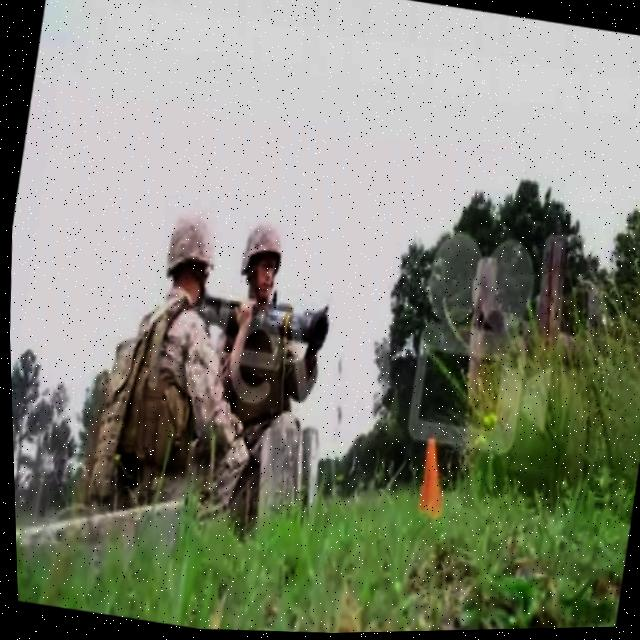rocket: (203, 287, 330, 359)
